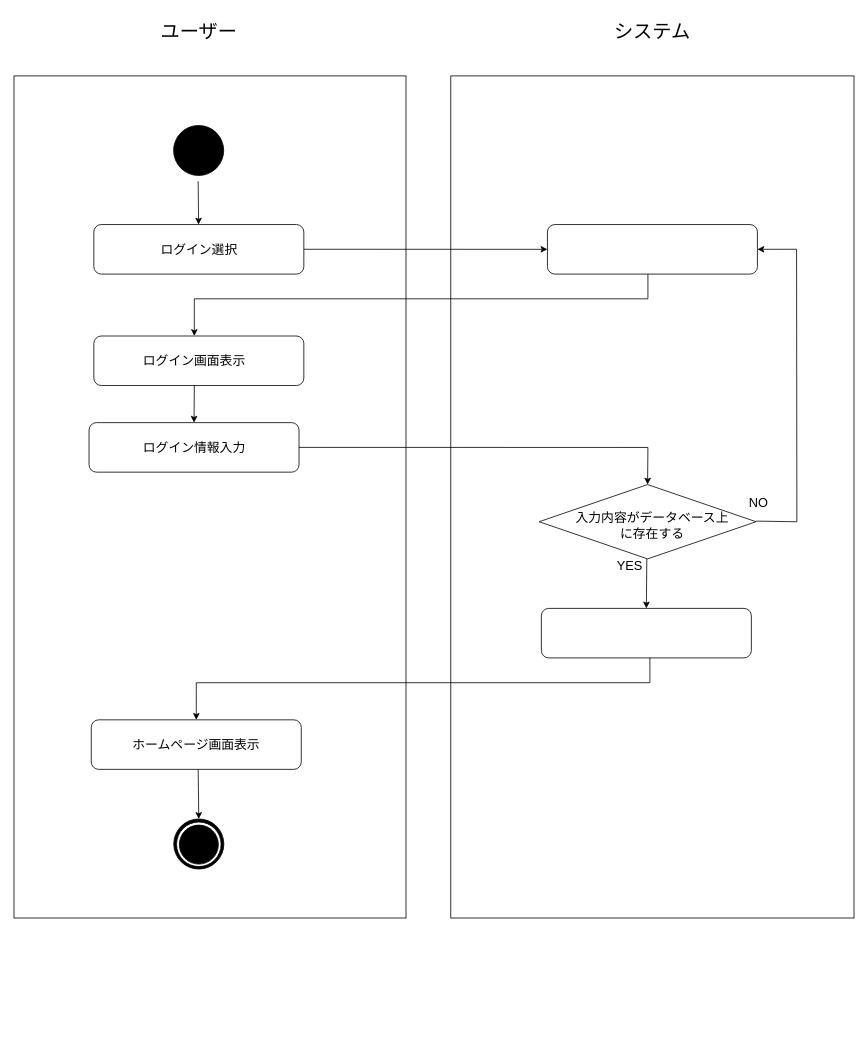
This 868x1059 diagram has some shape labels left out. The centre of each missing label's shape, as x and y in pixels:
ホームページ画面生成: (646,633)
ログイン画面生成: (652,249)
